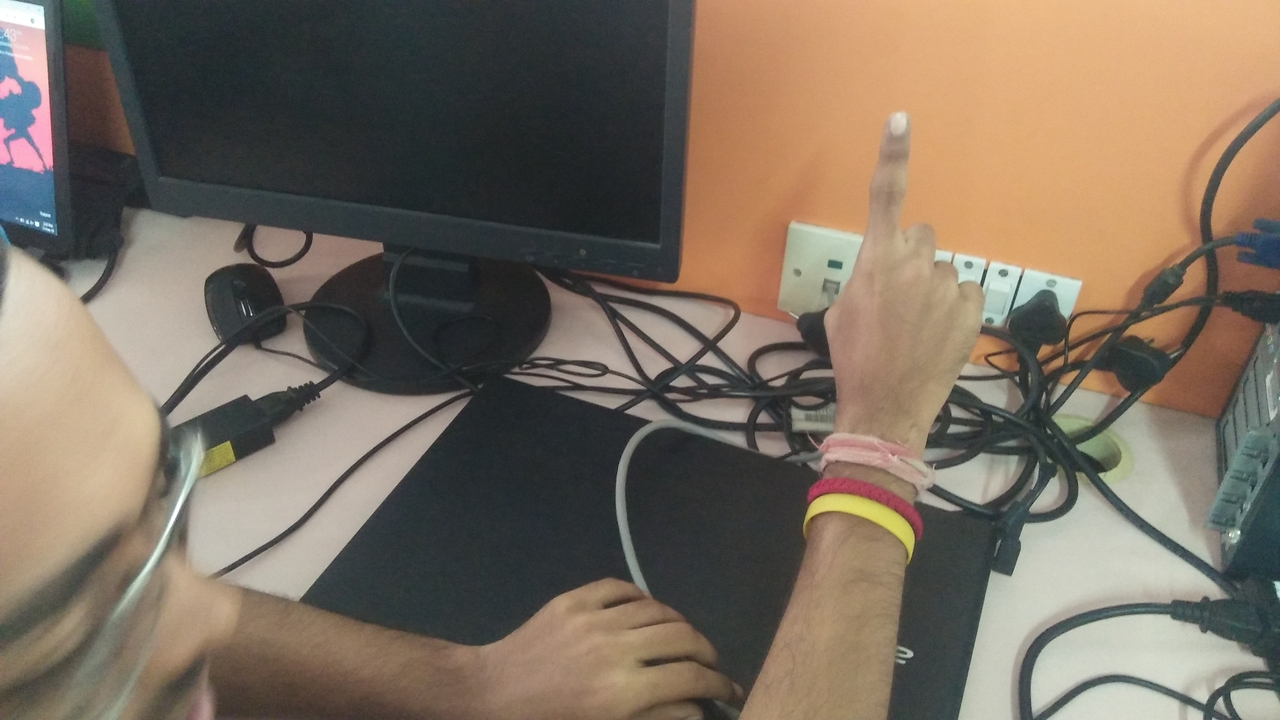fingertip: (880, 100, 922, 140)
